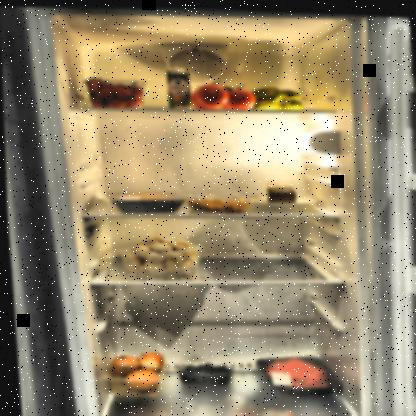banana: (251, 83, 304, 109)
blueberries: (177, 355, 229, 385)
cheese: (260, 177, 297, 204)
ground_beef: (251, 348, 345, 396)
heavy_cream: (165, 65, 193, 109)
mushrooms: (119, 233, 203, 275)
onion: (106, 347, 163, 393)
shrimp: (186, 191, 249, 212)
strawberries: (84, 72, 146, 109)
tomato: (188, 77, 256, 111)
